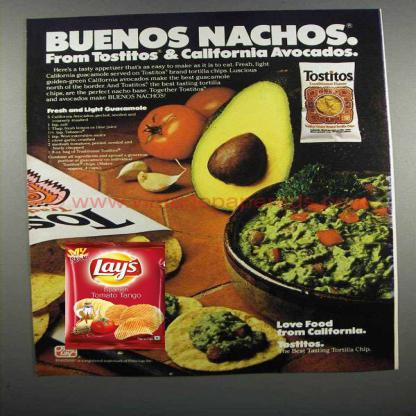tangy_tomato: (64, 238, 168, 352)
